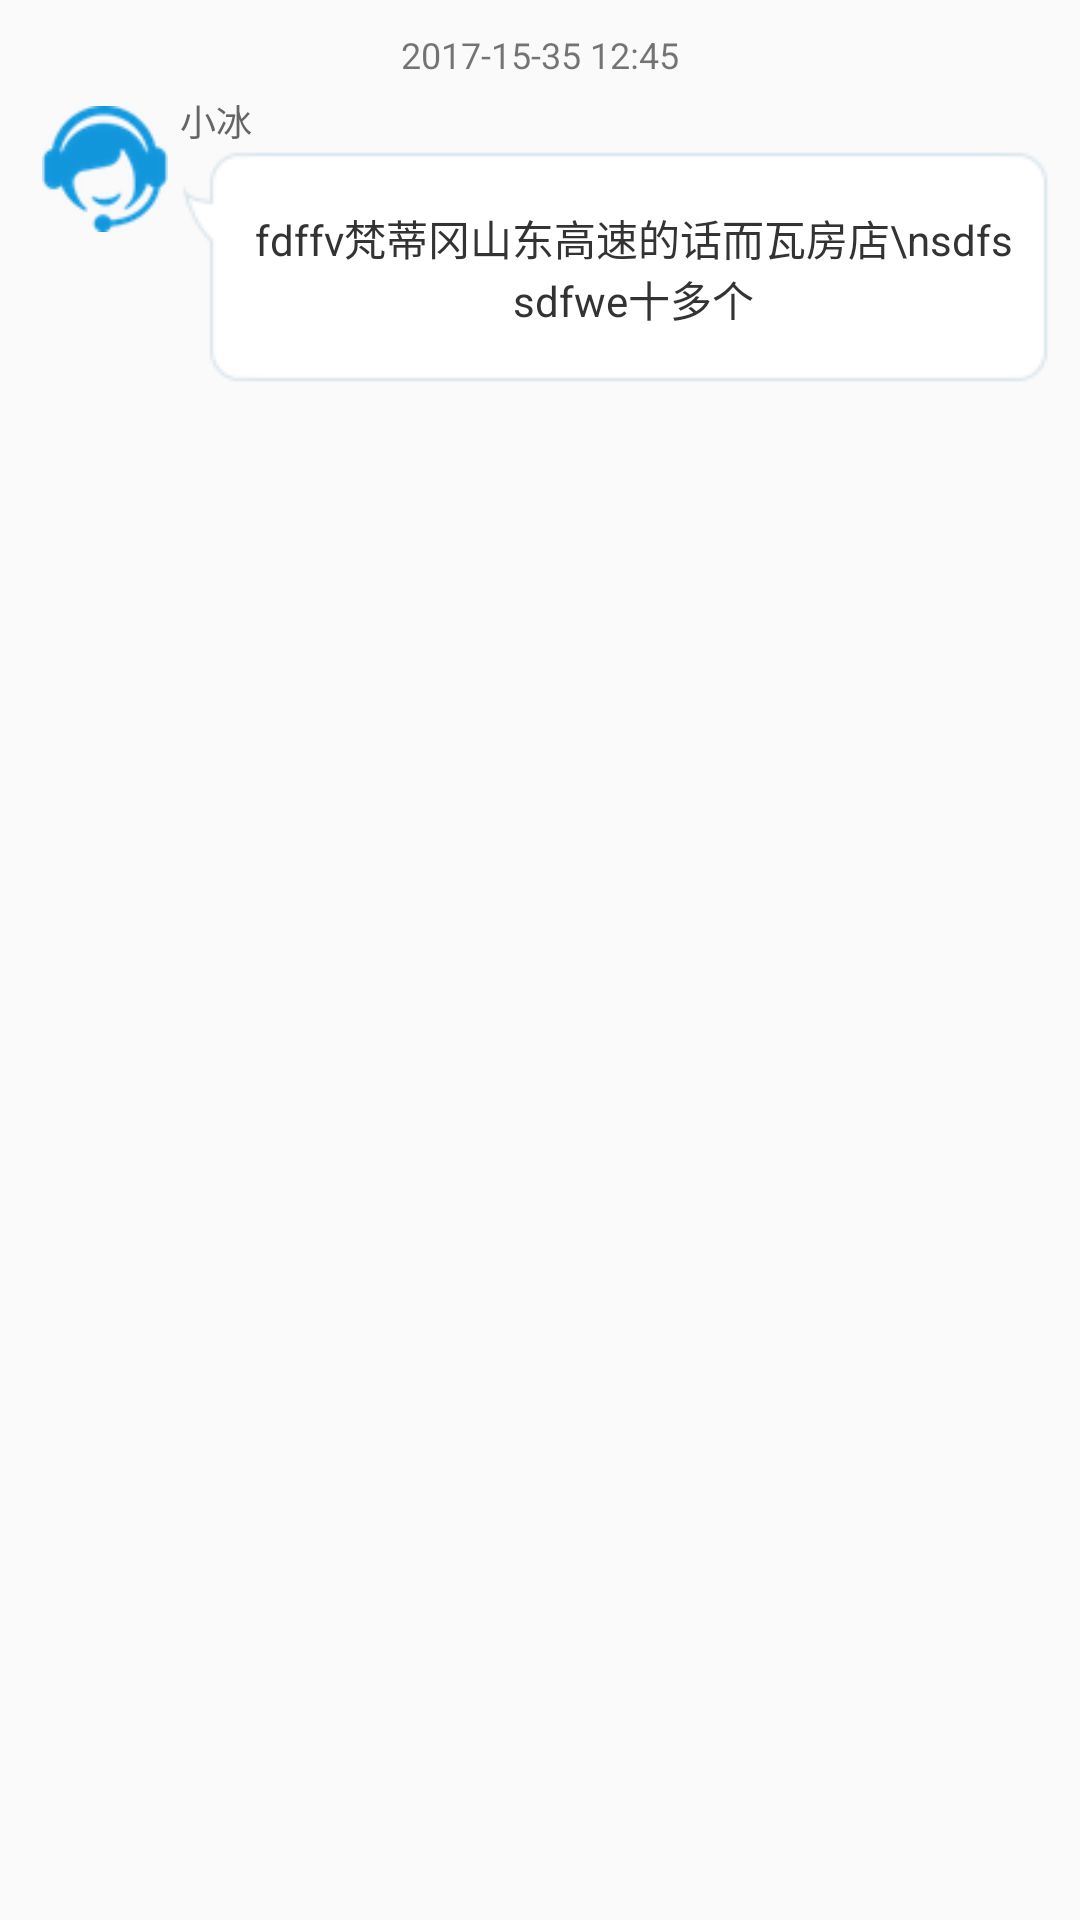

Named icons in this screenshot (1080px x 1920px) and their bounding boxes, (x1, y1, x2, y2):
chat server: (42, 106, 168, 232)
